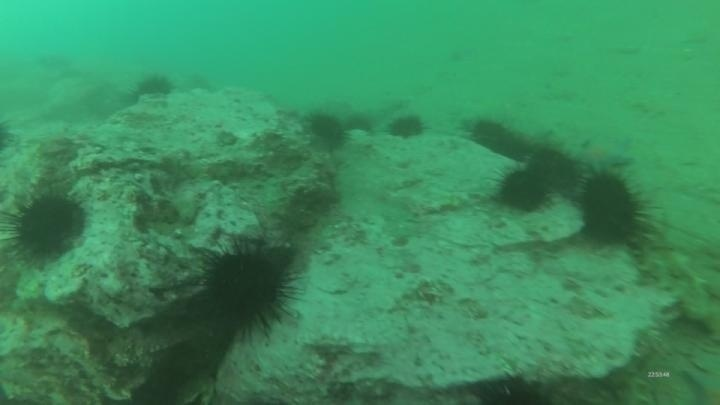echinus: (199, 241, 298, 334), (5, 187, 89, 263), (576, 170, 650, 248), (493, 164, 552, 214), (473, 370, 555, 405), (528, 147, 582, 195), (306, 110, 349, 151), (132, 72, 175, 102), (387, 112, 427, 142), (466, 118, 505, 145), (499, 130, 531, 157), (344, 112, 375, 136)
holothurian: (635, 243, 717, 332)
starfish: (574, 136, 634, 175), (679, 364, 719, 404)
